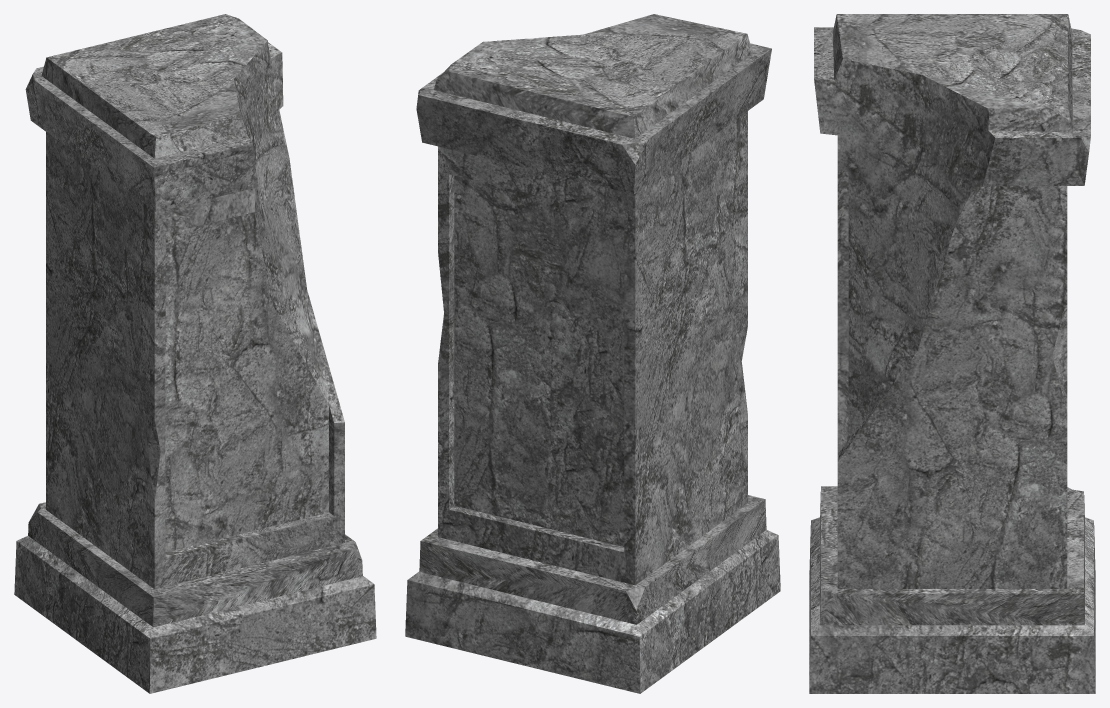
Rendered from materials_3_pedestal_3.fbx.
3 renders of one model, left to right at view 1: azimuth 30°, elevation 25°; view 2: azimuth 150°, elevation 25°; view 3: azimuth 270°, elevation 25°, orthographic. The views are drawn at different scales.
Parts seen in each view (by area): view 1: materials_3_pedestal_3; view 2: materials_3_pedestal_3; view 3: materials_3_pedestal_3.
Boxes of the visible parts, box(x1,y1,x2,y2) form: materials_3_pedestal_3: box(14, 14, 376, 693); materials_3_pedestal_3: box(405, 14, 780, 693); materials_3_pedestal_3: box(809, 14, 1095, 693).
Size of the model in its own units: 54.56 by 125 by 56.49.
